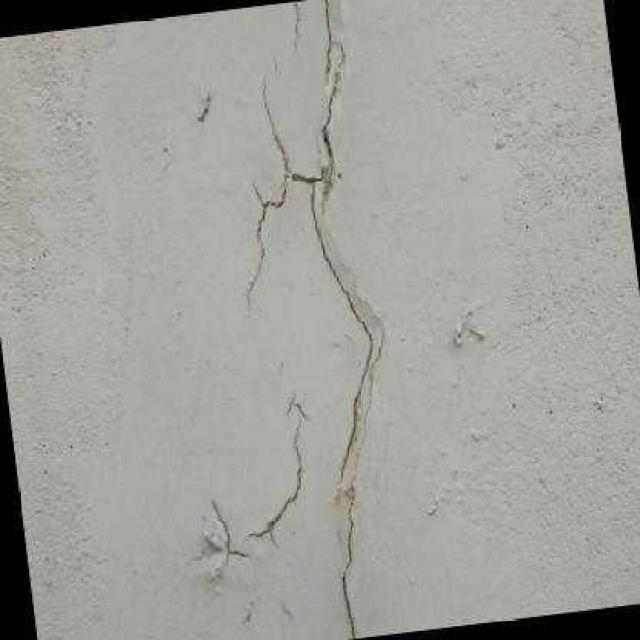D00: (246, 0, 387, 639), (251, 438, 304, 549)
